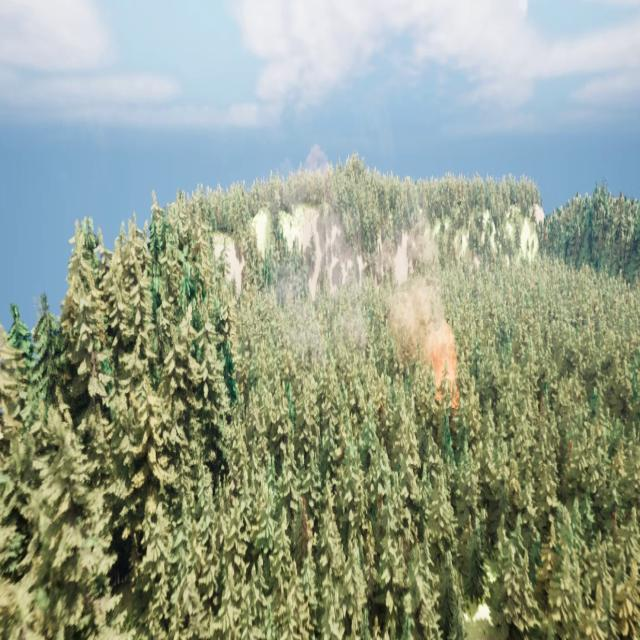smoke: (380, 268, 458, 404)
